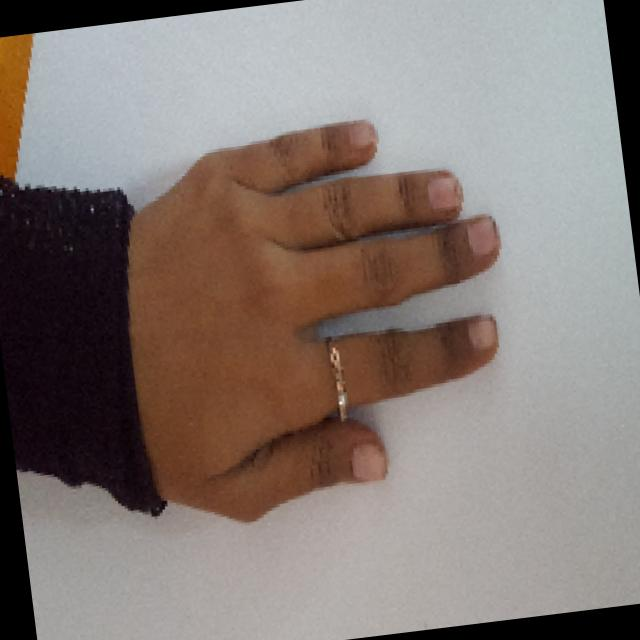Nail: (351, 443, 386, 481), (466, 216, 499, 256), (427, 177, 463, 209), (467, 317, 497, 350), (347, 122, 376, 147)
